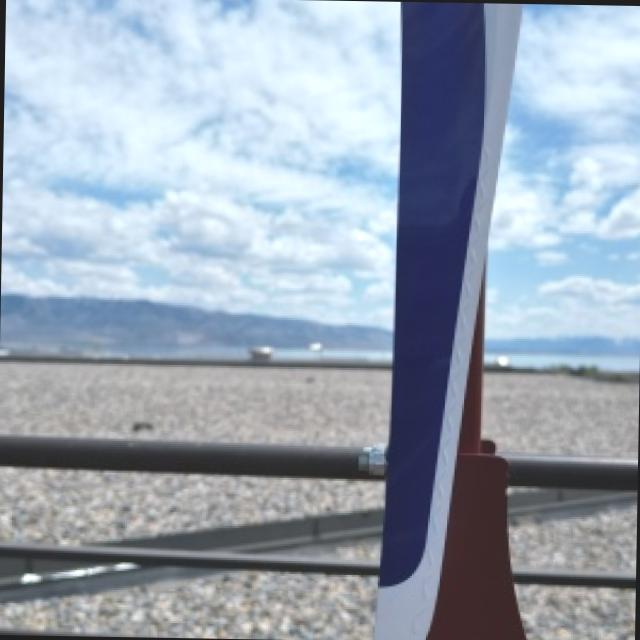healthy: (378, 1, 525, 640), (0, 468, 381, 537)
